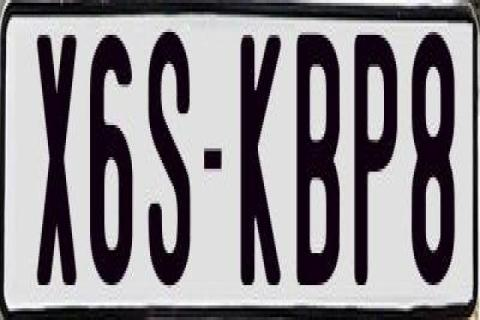0: (89, 29, 137, 297), (412, 32, 460, 296)
B: (296, 35, 344, 303)
K: (242, 32, 286, 282)
P: (354, 26, 402, 276)
S: (147, 23, 191, 276)
X: (34, 35, 80, 297)
